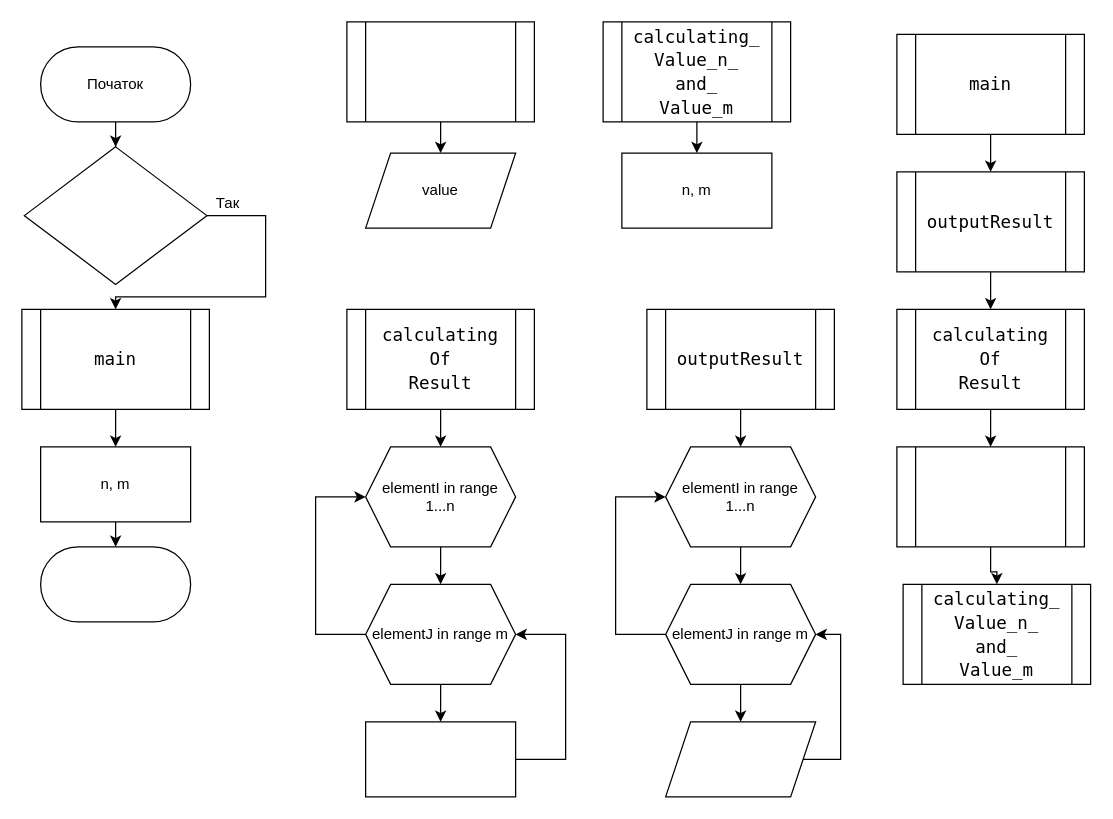
The diagram is 1113 pixels wide and 819 high, and some of its shapes have lost their labels. The shapes that lost their labels are listed below. From the top down, each one's centre as x and y in pixels, then its label:
point 440,71: userInputValue
point 115,215: __name__ = = "__main__"
point 990,496: generateMatrix
point 115,584: Кінець
point 440,759: matrix
point 740,759: matrix[elementI] [elementJ]
